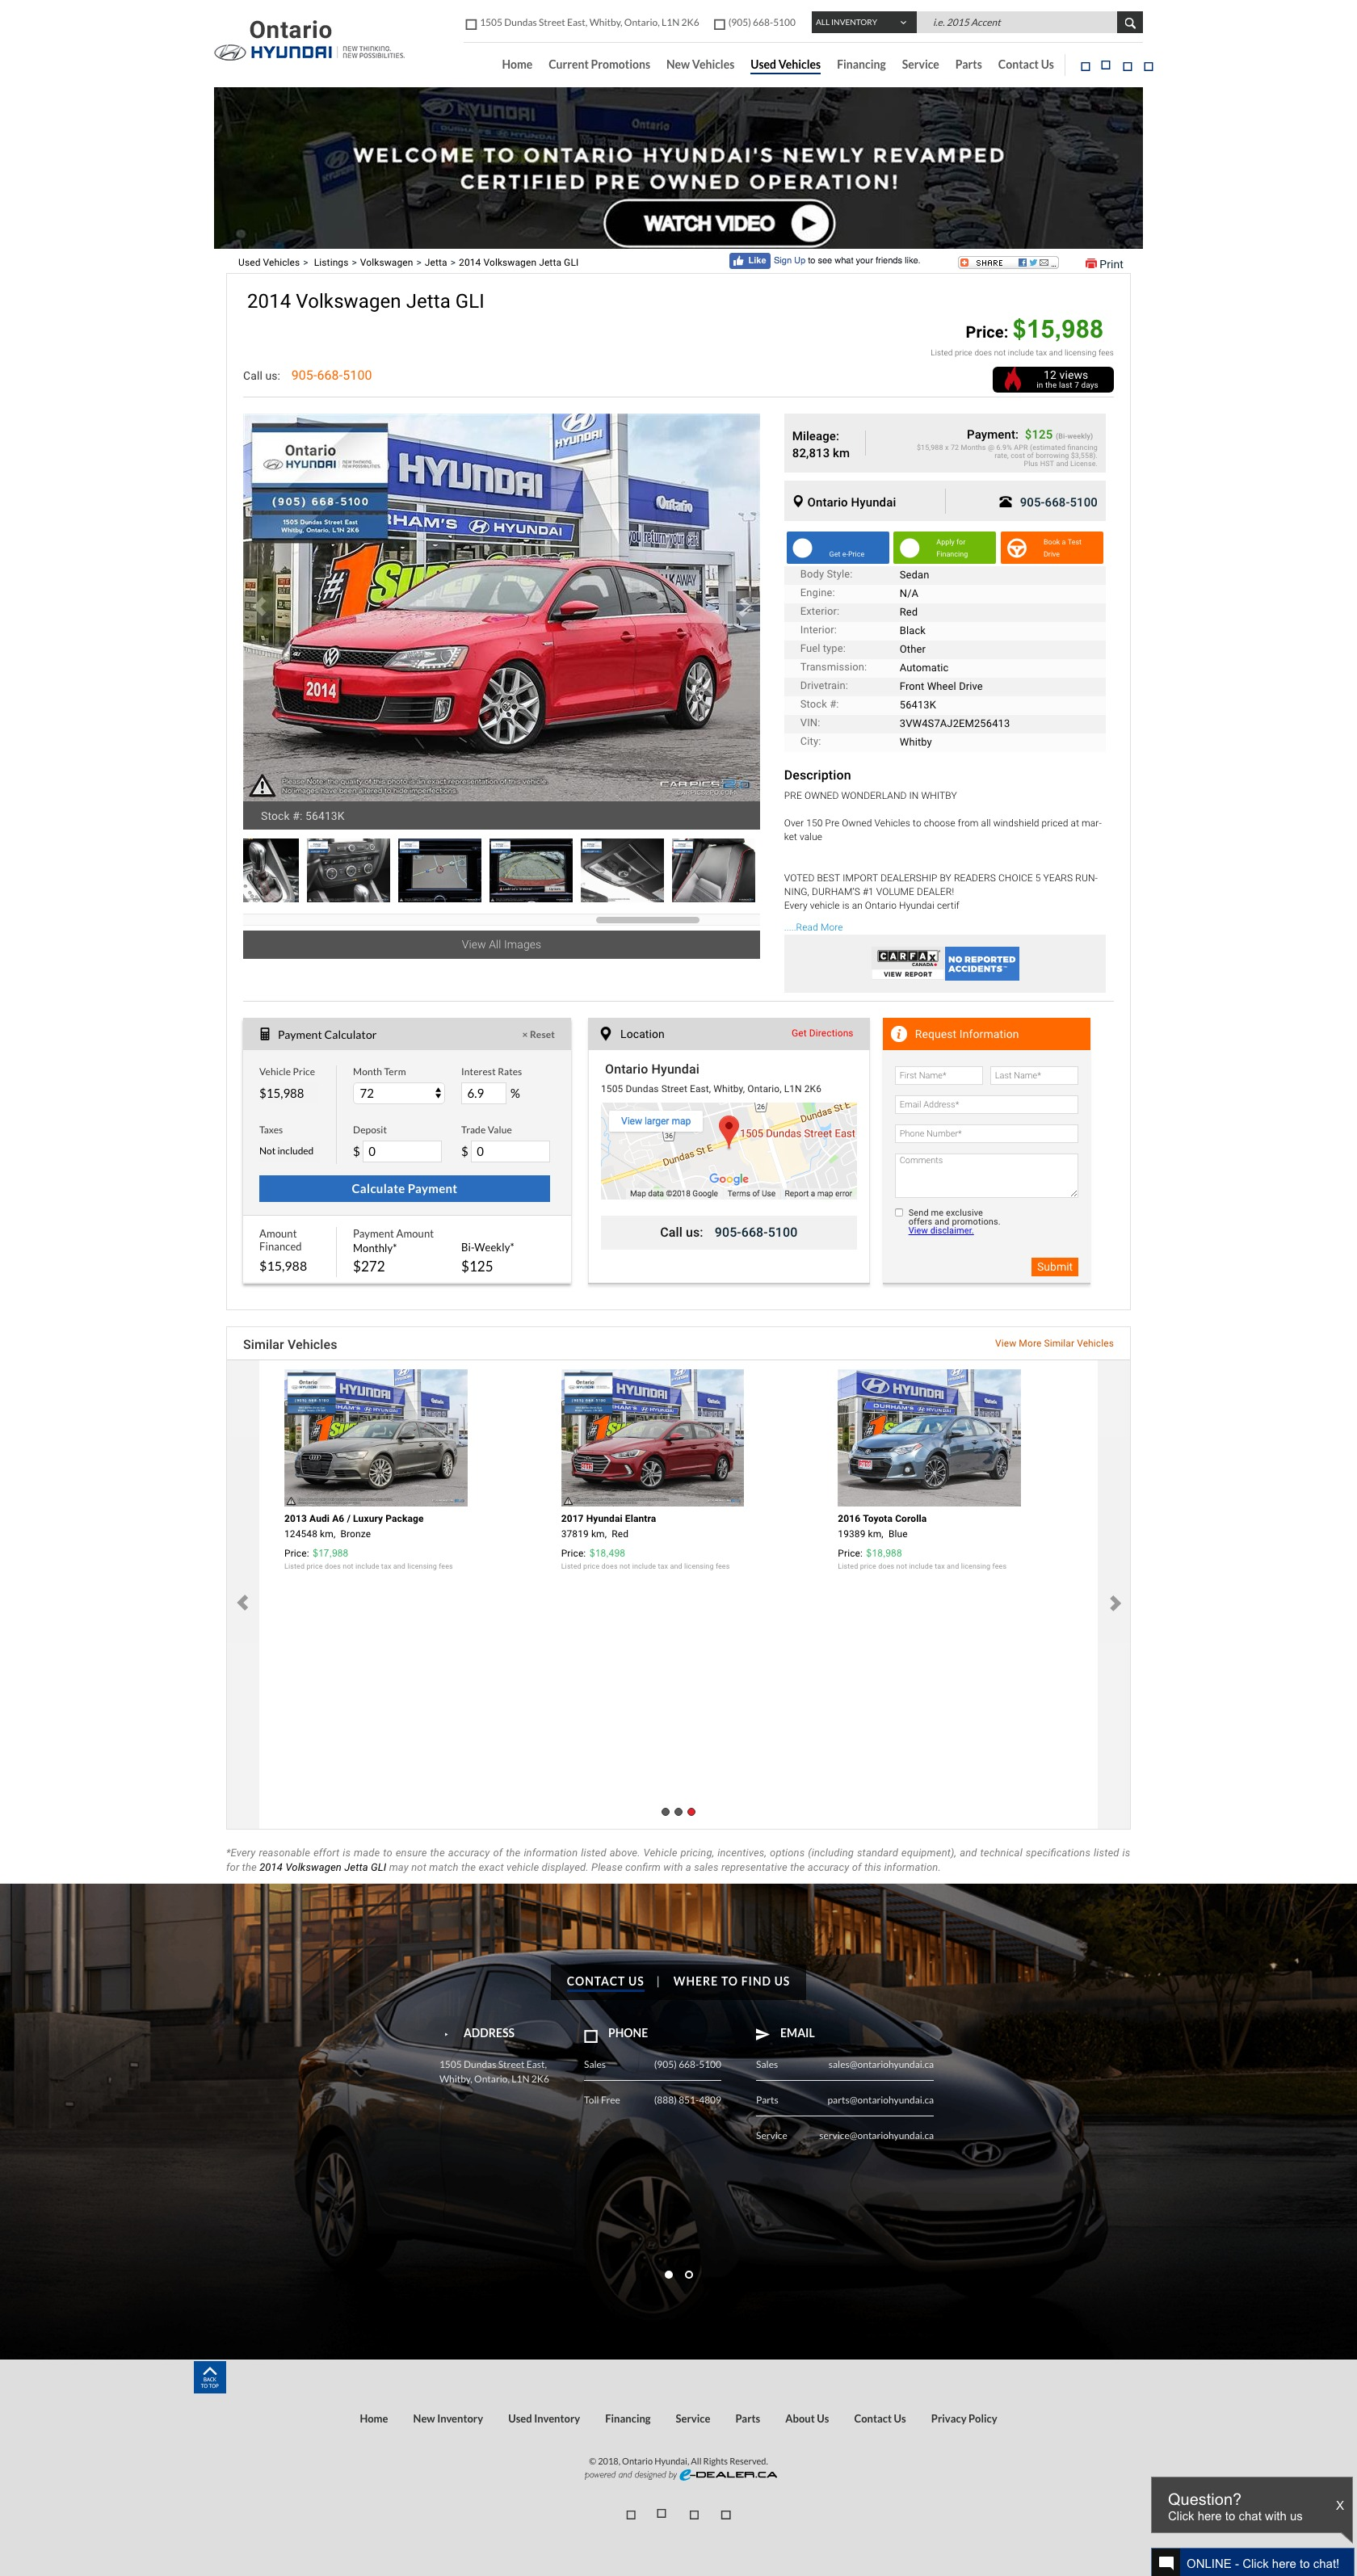car: (739, 598, 754, 617)
